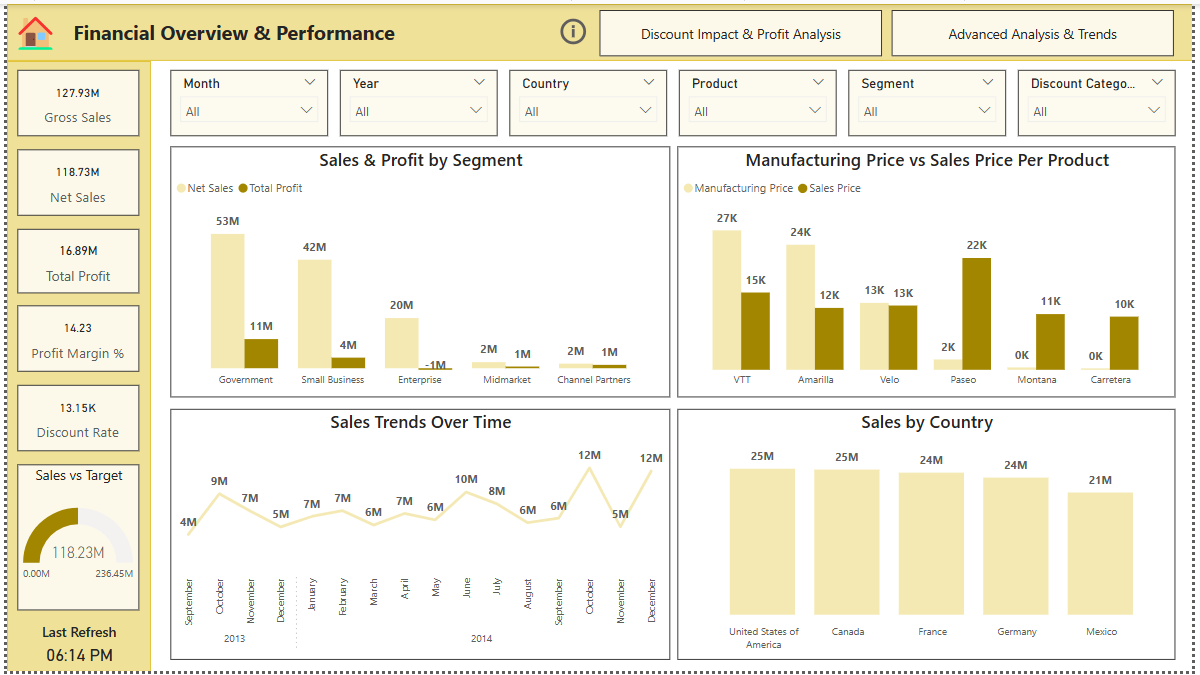

The page's visual inventory and layout, read from the dashboard file:
{"tool":"powerbi","page":{"name":"Financial Overview & Performance","canvas":[1280,720],"ordinal":1},"visuals":[{"type":"shape","box":[0,0,1280.8,61.5],"z":0},{"type":"textbox","box":[0,0,66.4,61.5],"z":1000},{"type":"actionButton","box":[0,0,66.4,61.5],"z":2000},{"type":"textbox","box":[66.4,0,375.7,61.5],"z":3000},{"type":"pageNavigator","box":[639.6,6.5,621.8,50.2],"z":4000},{"type":"shape","box":[0,61.5,155.4,659],"z":5000},{"type":"lineChart","title":"Sales Trends Over Time","fields":{"Y":["Measure.Net Sales"],"Category":["dim_date.Date.Variation.Date Hierarchy.Year","dim_date.Date.Variation.Date Hierarchy.Month"]},"box":[176.5,437.2,539.2,270.4],"z":6000},{"type":"clusteredColumnChart","title":"Sales & Profit by Segment","fields":{"Category":["financials.Segment"],"Y":["Measure.Net Sales","Measure.Total Profit"]},"box":[176.5,153.8,539.2,270.4],"z":7000},{"type":"columnChart","title":"Sales by Country","fields":{"Category":["financials.Country"],"Y":["Measure.Net Sales"]},"box":[723.8,437.2,537.6,270.4],"z":8000},{"type":"clusteredColumnChart","title":"Manufacturing Price vs Sales Price Per Product","fields":{"Y":["Sum(financials.Manufacturing Price)","Sum(financials.Sale Price)"],"Category":["financials.Product"]},"box":[723.8,153.8,537.6,270.4],"z":9000},{"type":"slicer","fields":{"Values":["dim_date.Month"]},"box":[176.5,72,170,71.2],"z":10000},{"type":"slicer","fields":{"Values":["dim_date.Year"]},"box":[359.5,72,170,71.2],"z":11000},{"type":"slicer","fields":{"Values":["financials.Country"]},"box":[542.4,72,170,71.2],"z":12000},{"type":"slicer","fields":{"Values":["financials.Product"]},"box":[725.4,72,170,71.2],"z":13000},{"type":"slicer","fields":{"Values":["financials.Segment"]},"box":[908.4,72,170,71.2],"z":14000},{"type":"slicer","fields":{"Values":["financials.Discount Category"]},"box":[1091.4,72,170,71.2],"z":15000},{"type":"card","fields":{"Values":["Measure.Gross Sales"]},"box":[11.3,71.2,131.2,71.2],"z":16000},{"type":"card","fields":{"Values":["Measure.Net Sales"]},"box":[11.3,156.7,131.2,71.2],"z":17000},{"type":"card","fields":{"Values":["Measure.Profit Margin %"]},"box":[11.3,326.1,131.2,71.2],"z":18000},{"type":"card","fields":{"Values":["Measure.Total Profit"]},"box":[11.3,242.2,131.2,69.6],"z":19000},{"type":"card","fields":{"Values":["Measure.Avg Discount"]},"box":[11.3,411.6,131.2,71.2],"z":20000},{"type":"gauge","fields":{"Y":["Measure.Sales vs Target"]},"box":[11.3,497.1,131.2,157.1],"z":21000},{"type":"card","title":"Last Refresh","fields":{"Values":["Min(LocalTime.LocalTime)"]},"box":[0,667.1,155.4,52],"z":22000},{"type":"actionButton","box":[592.6,9.7,37.2,40.5],"z":23000}]}

Visuals, with their boxes in screenshot pixels (x1, y1, x2, y2), scaled from the page's 1280x720 canvas onto the 1200x675 screenshot:
shape: (x1=0, y1=0, x2=1199, y2=58)
textbox: (x1=0, y1=0, x2=62, y2=58)
actionButton: (x1=0, y1=0, x2=62, y2=58)
textbox: (x1=62, y1=0, x2=414, y2=58)
pageNavigator: (x1=600, y1=6, x2=1183, y2=53)
shape: (x1=0, y1=58, x2=146, y2=674)
"Sales Trends Over Time" lineChart: (x1=165, y1=410, x2=671, y2=663)
"Sales & Profit by Segment" clusteredColumnChart: (x1=165, y1=144, x2=671, y2=398)
"Sales by Country" columnChart: (x1=679, y1=410, x2=1183, y2=663)
"Manufacturing Price vs Sales Price Per Product" clusteredColumnChart: (x1=679, y1=144, x2=1183, y2=398)
slicer - dim_date.Month: (x1=165, y1=68, x2=325, y2=134)
slicer - dim_date.Year: (x1=337, y1=68, x2=496, y2=134)
slicer - financials.Country: (x1=508, y1=68, x2=668, y2=134)
slicer - financials.Product: (x1=680, y1=68, x2=839, y2=134)
slicer - financials.Segment: (x1=852, y1=68, x2=1011, y2=134)
slicer - financials.Discount Category: (x1=1023, y1=68, x2=1183, y2=134)
card - Measure.Gross Sales: (x1=11, y1=67, x2=134, y2=134)
card - Measure.Net Sales: (x1=11, y1=147, x2=134, y2=214)
card - Measure.Profit Margin %: (x1=11, y1=306, x2=134, y2=372)
card - Measure.Total Profit: (x1=11, y1=227, x2=134, y2=292)
card - Measure.Avg Discount: (x1=11, y1=386, x2=134, y2=453)
gauge - Measure.Sales vs Target: (x1=11, y1=466, x2=134, y2=613)
"Last Refresh" card: (x1=0, y1=625, x2=146, y2=674)
actionButton: (x1=556, y1=9, x2=590, y2=47)
